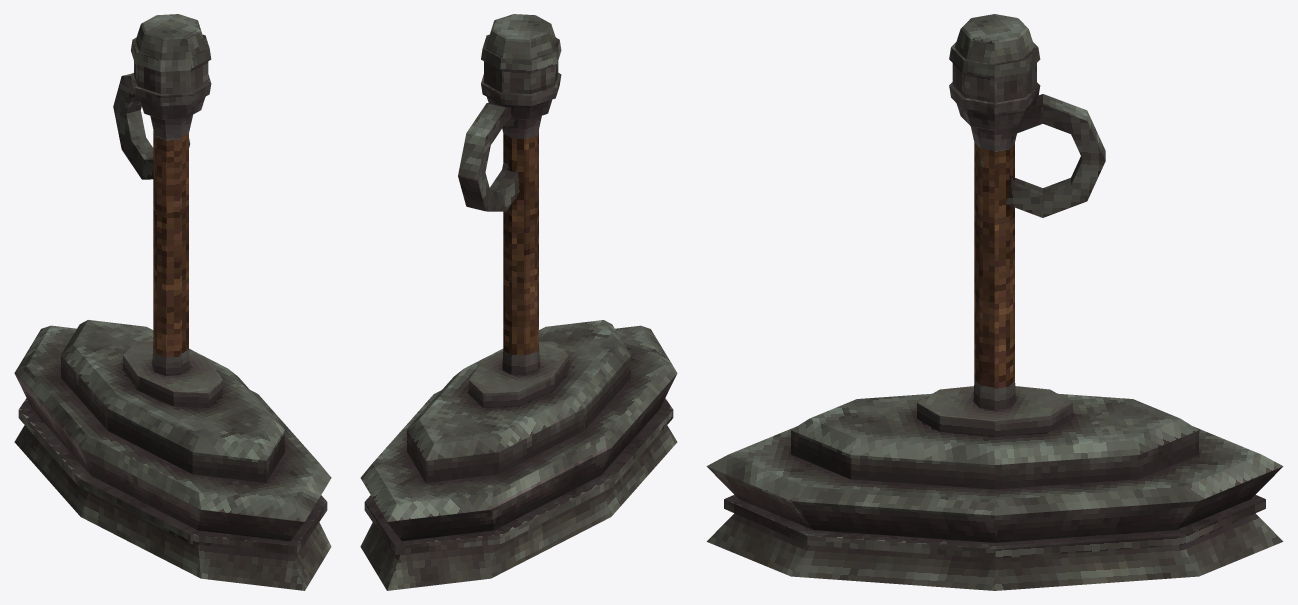
File: leverbase-variant-1.glb
3 views of the same model, side by side, from view 1: azimuth 30°, elevation 25°; view 2: azimuth 150°, elevation 25°; view 3: azimuth 270°, elevation 25° (orthographic). The views are drawn at different scales.
Visible parts, largest first — view 1: Leverbase_Variant_1, Lever.001; view 2: Leverbase_Variant_1, Lever.001; view 3: Leverbase_Variant_1, Lever.001.
Part boxes in pixels (<box>): Leverbase_Variant_1: <box>14,320,331,590</box>; Lever.001: <box>113,14,211,375</box>; Leverbase_Variant_1: <box>360,320,677,590</box>; Lever.001: <box>458,14,561,375</box>; Leverbase_Variant_1: <box>706,386,1283,590</box>; Lever.001: <box>949,14,1105,410</box>.
Bounding box in the file's own units: 0.6327 × 1.51 × 1.54.
Materials: 1 (1 with a texture image).
